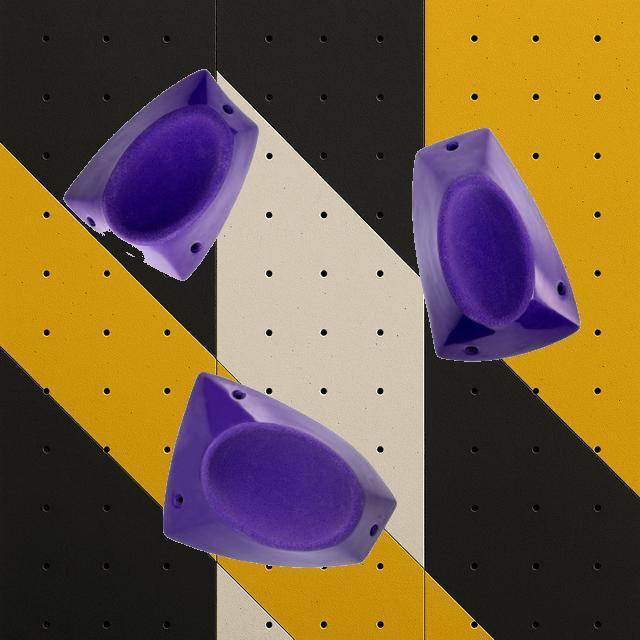Sloper: (162, 370, 398, 568), (63, 67, 259, 281), (410, 126, 580, 362)
